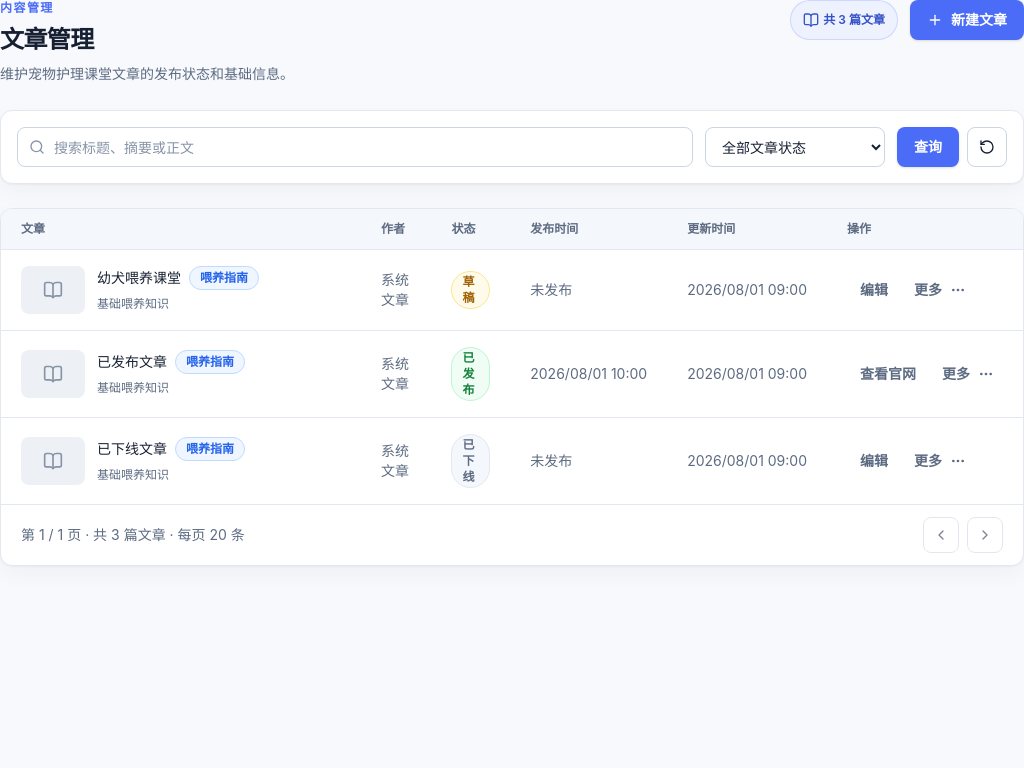
ContentArticles › publishes only after confirmation, refreshes the list, and closes the dialog
Expected: the text "幼犬喂养课堂" is shown, [97,268,181,288]
What coordinates should you click on to do the following:
click the button with aria-label "更多 幼犬喂养课堂"
I would click on:
 (940, 290)
Its box is [905,274,975,306].
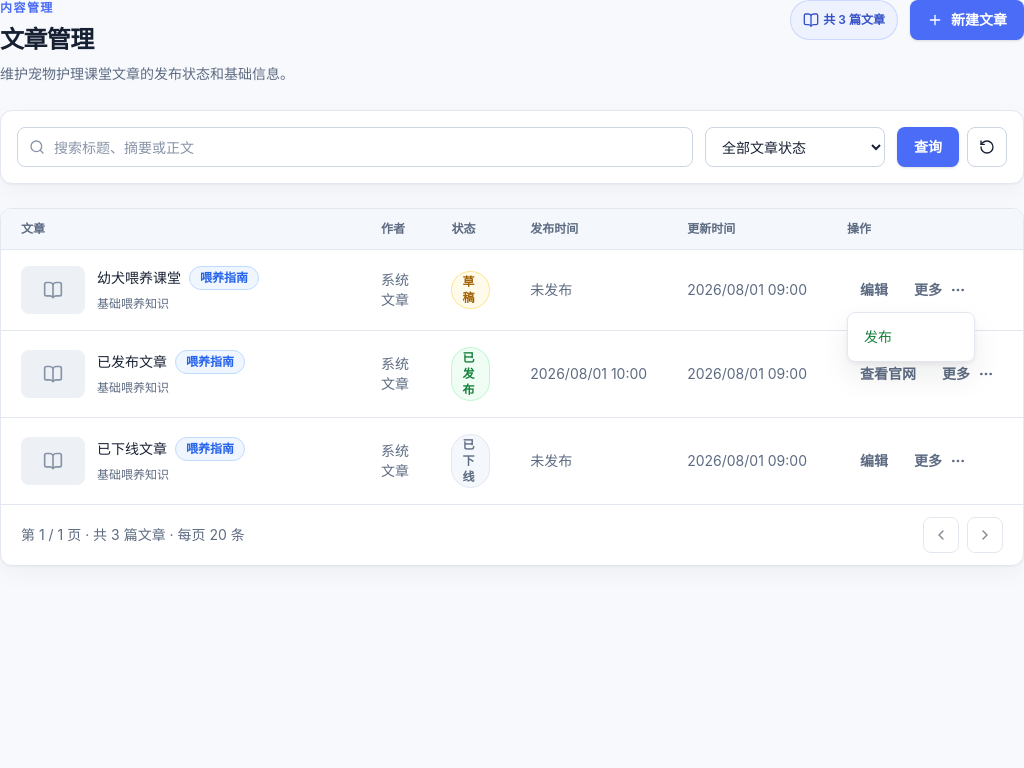
What coordinates should you click on to do the following:
click the menu item with aria-label "发布 幼犬喂养课堂"
I would click on:
 (878, 336)
Its box is [864,328,892,345].
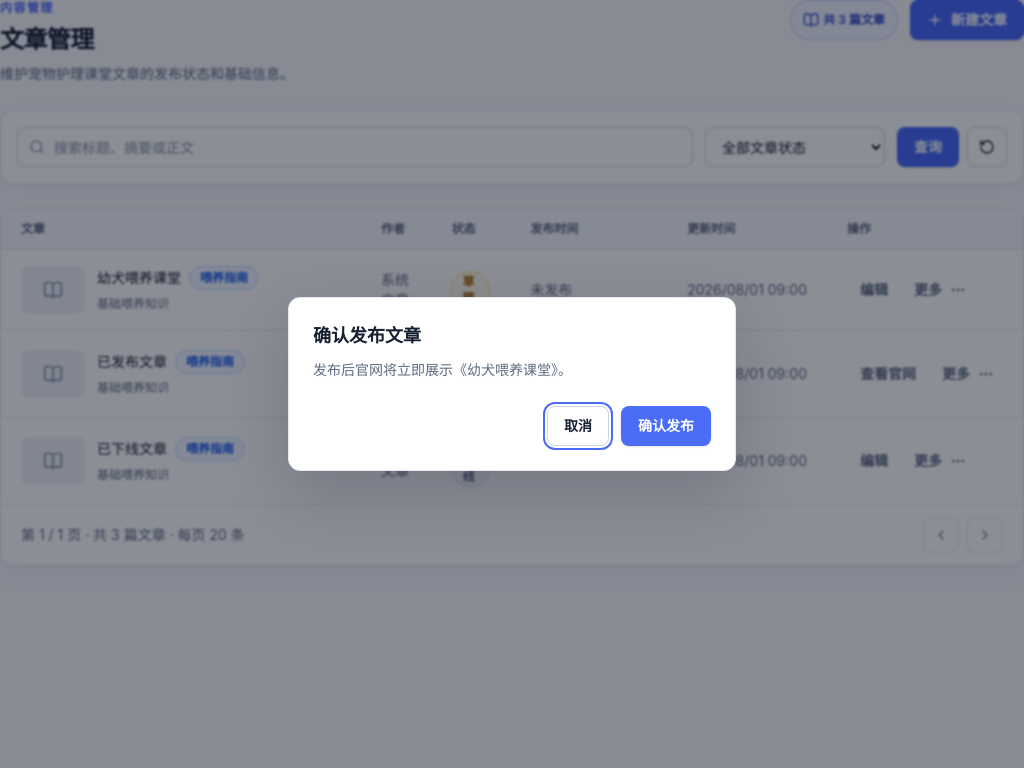
Result: the dialog "确认发布文章" is shown at [288,297,736,471]
What coordinates should you click on to do the following:
click the button "确认发布"
I would click on:
 (666, 426)
Its box is [621,406,711,446].
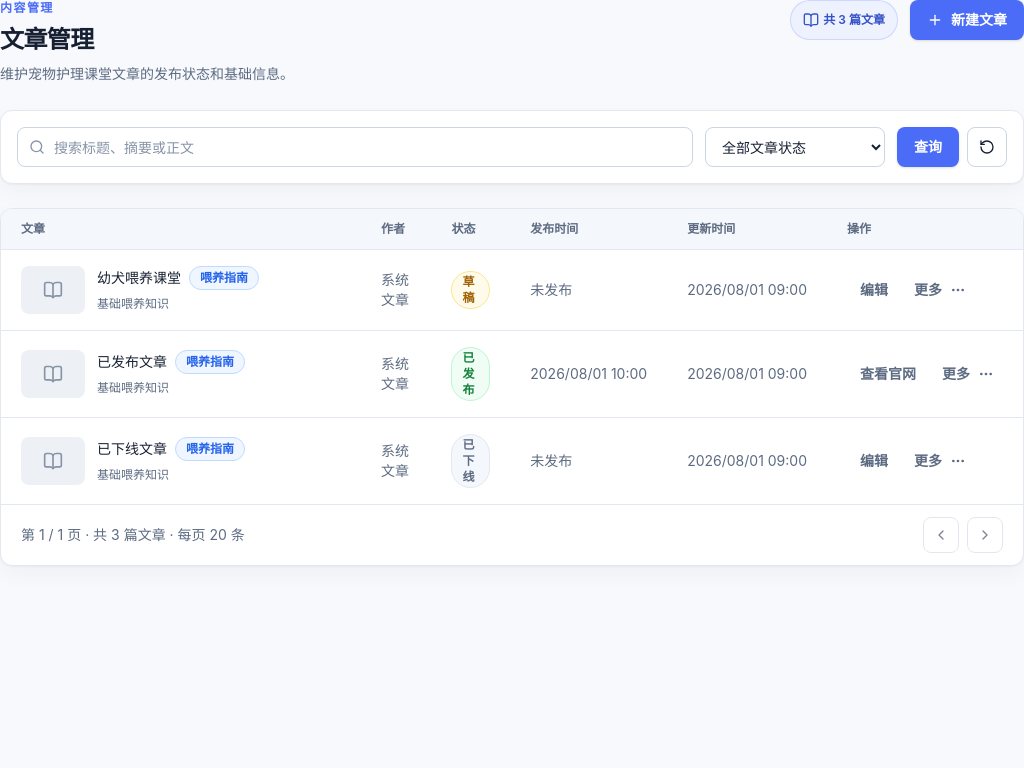
Result: the heading "确认发布文章" is gone
